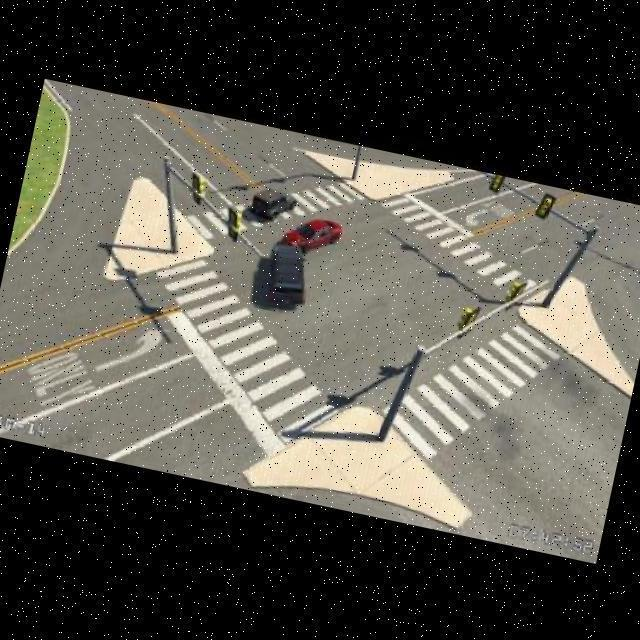accident: (267, 212, 318, 271)
